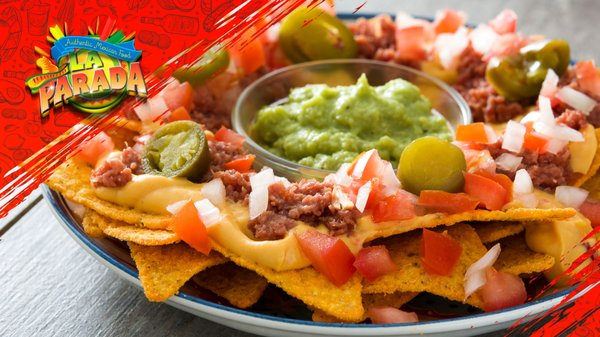sushi: (231, 59, 472, 182)
